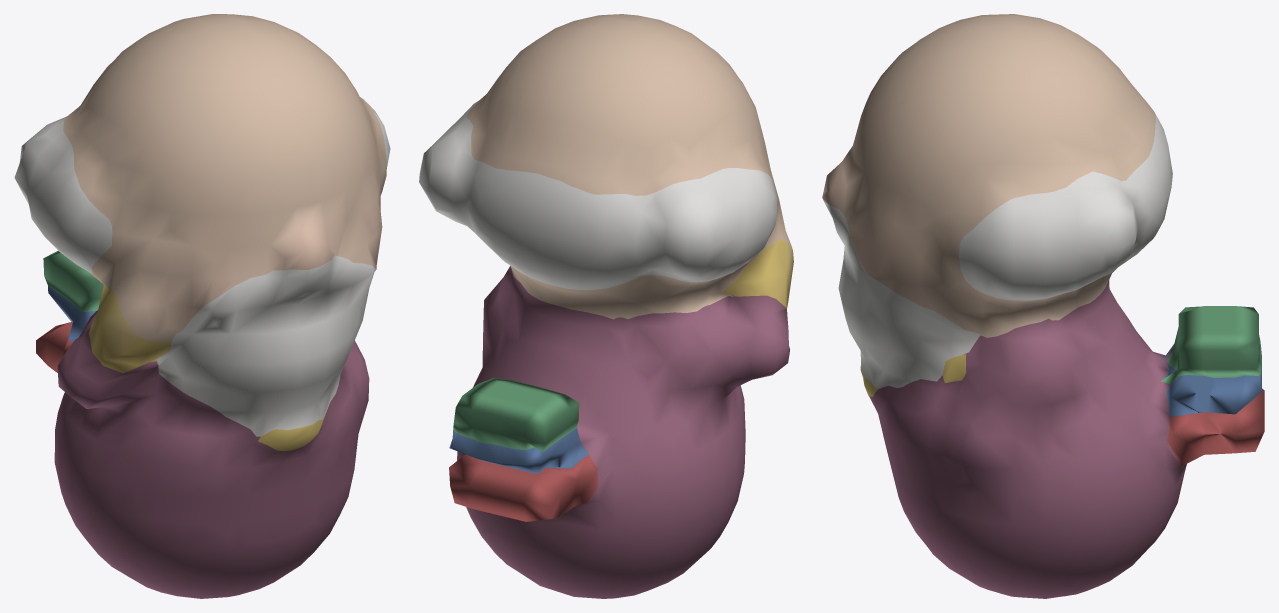
Rendered from rider_c04_lo.glb.
3 views of the same model, side by side, from view 1: azimuth 30°, elevation 25°; view 2: azimuth 150°, elevation 25°; view 3: azimuth 270°, elevation 25° (orthographic). The views are drawn at different scales.
Visible parts, largest first — view 1: rider_c04_lo; view 2: rider_c04_lo; view 3: rider_c04_lo.
Part boxes in pixels (x1,y1,x2,y2): rider_c04_lo: (14,14,390,598); rider_c04_lo: (419,14,793,598); rider_c04_lo: (822,14,1264,598).
Size of the model in its own units: 26.11 by 42.74 by 30.79.
